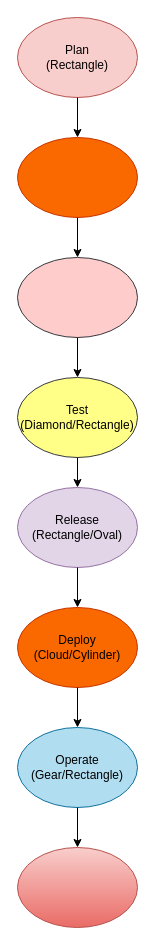
This 155x945 diagram has some shape labels left out. Each missing label, with the centre of its shape:
Build (Gear/Rectangle): the point at 77,297
Develop (Folder/Rectangle): the point at 77,177
Monitor (Parallelogram/Cloud): the point at 77,887
